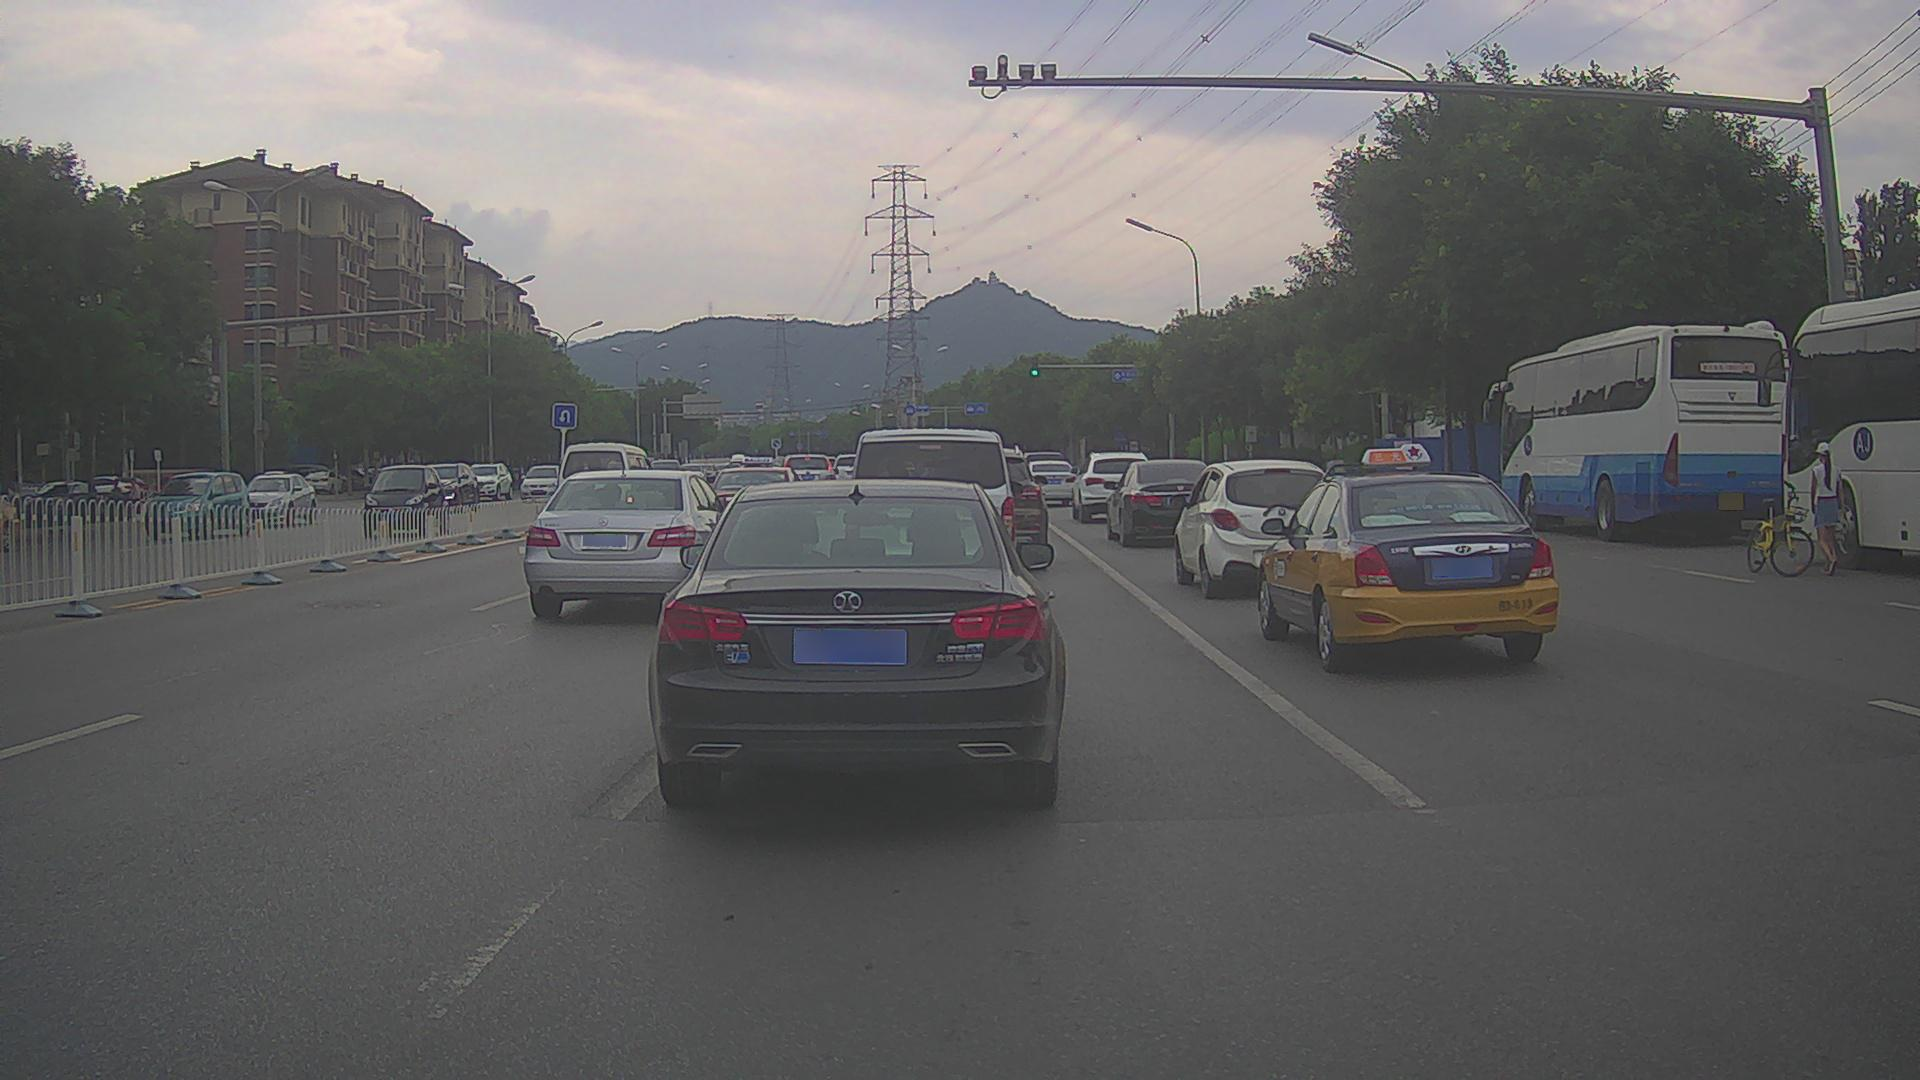bus: (1484, 319, 1792, 542)
car: (647, 480, 1067, 806), (1258, 443, 1559, 674), (522, 469, 727, 618), (1168, 459, 1332, 600), (1103, 459, 1212, 547), (141, 470, 252, 541), (705, 456, 803, 537), (360, 464, 451, 540), (1069, 451, 1152, 524), (241, 470, 319, 529), (776, 453, 840, 508), (415, 462, 480, 516), (1022, 459, 1082, 508), (463, 462, 515, 502), (519, 464, 570, 504), (302, 469, 350, 496)
cyclist: (1746, 479, 1815, 579)
ignore: (1755, 289, 1918, 570), (649, 452, 856, 488), (1002, 444, 1064, 545), (37, 475, 147, 528)
pedestrian: (1810, 441, 1846, 576), (5, 485, 23, 548), (127, 477, 141, 520), (109, 478, 123, 521)
van: (840, 428, 1024, 578), (554, 441, 655, 525)
